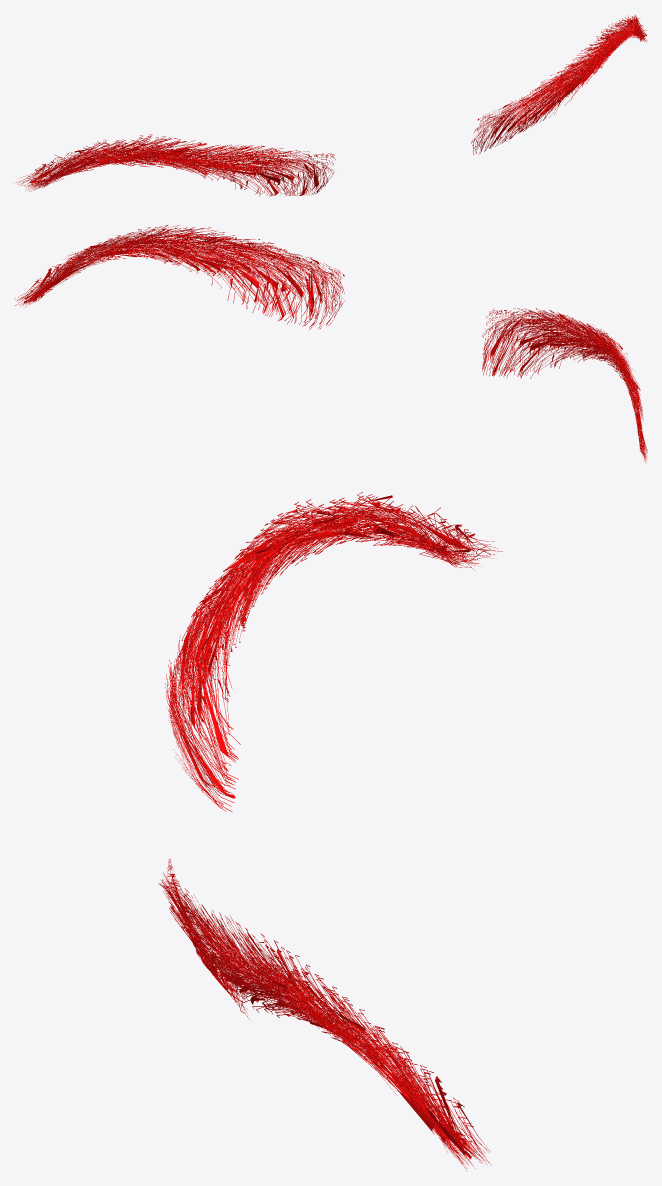
The model's file is mindfront_eyebrows_11_F.glb.
The picture shows the model from 3 angles, top to bottom: view 1: azimuth 30°, elevation 25°; view 2: azimuth 150°, elevation 25°; view 3: azimuth 270°, elevation 25°; orthographic projection. The views are drawn at different scales.
Size of the model in its own units: 0.1232 by 0.0159 by 0.0293.
1 material, 1 textured.
